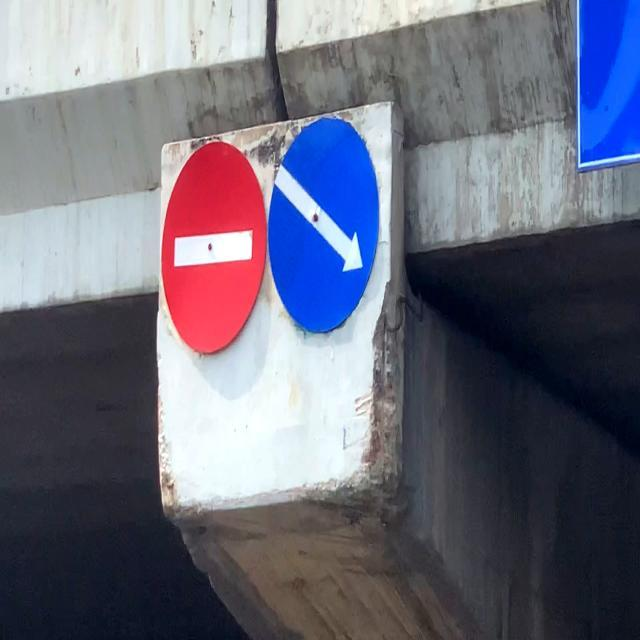P-102: (164, 138, 266, 354)
R-302a: (268, 118, 380, 333)
